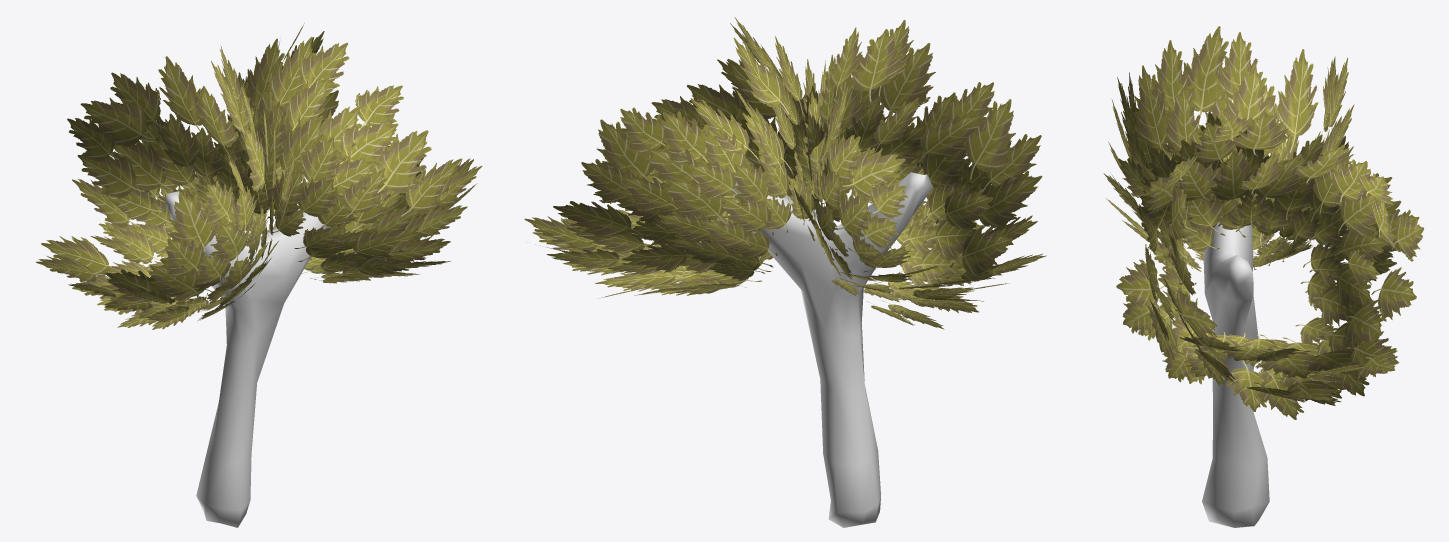
The model's file is Tree1.fbx.
3 renders of one model, left to right at view 1: azimuth 30°, elevation 25°; view 2: azimuth 150°, elevation 25°; view 3: azimuth 270°, elevation 25°, orthographic. The views are drawn at different scales.
Parts seen in each view (by area): view 1: Tree1; view 2: Tree1; view 3: Tree1.
Boxes of the visible parts, x1,y1,x2,y2 form: Tree1: (36, 23, 482, 527); Tree1: (524, 17, 1046, 527); Tree1: (1103, 26, 1423, 527).
Bounding box in the file's own units: 19.7 × 20.4 × 12.56.
